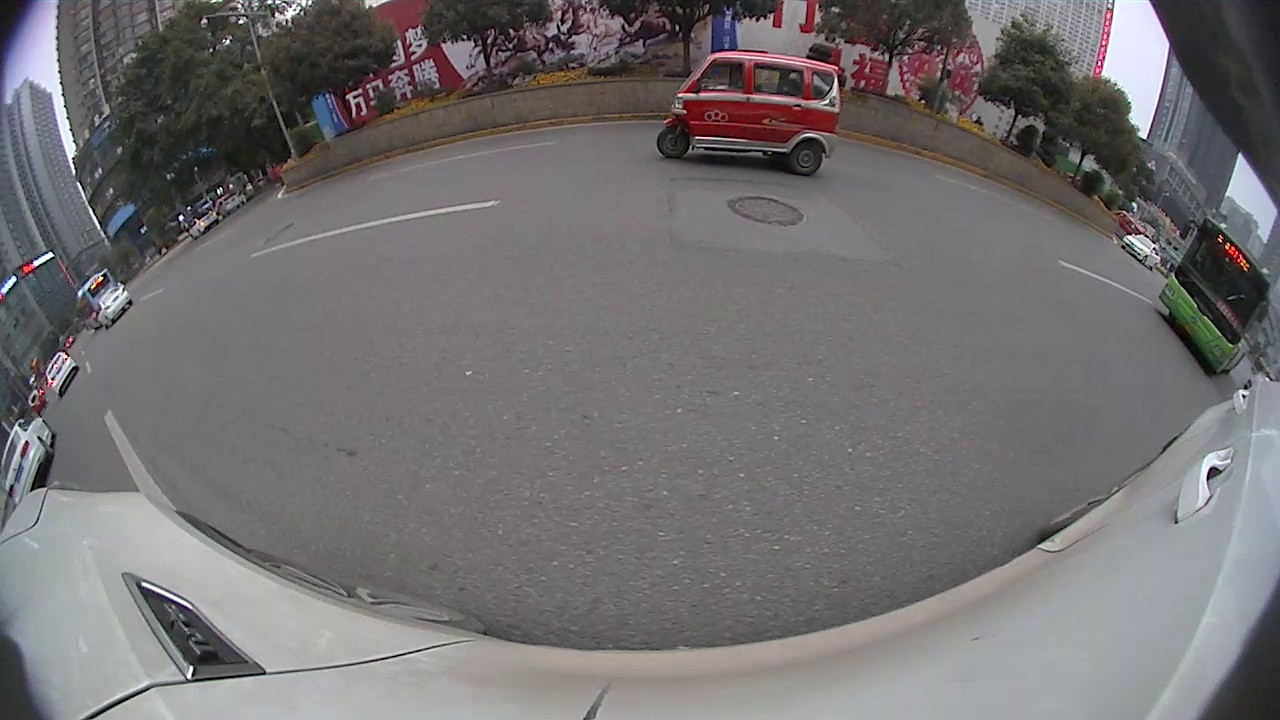bus: (1155, 216, 1272, 378), (73, 267, 115, 332)
car: (3, 415, 55, 503), (44, 349, 79, 398), (98, 282, 133, 329), (1118, 231, 1158, 263)
front: (652, 124, 694, 160)
rear: (787, 141, 826, 179)
rider: (655, 49, 843, 177)
